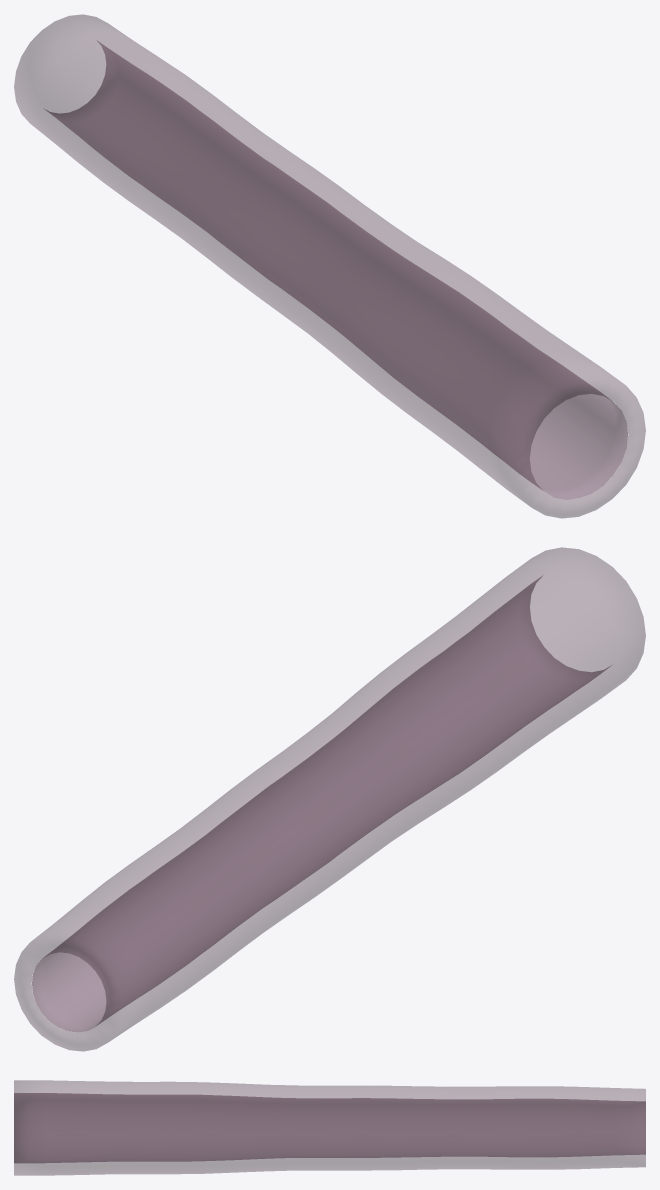
File: s3_nephron_tubule.glb
3 renders of one model, top to bottom at view 1: azimuth 30°, elevation 25°; view 2: azimuth 150°, elevation 25°; view 3: azimuth 270°, elevation 25°, orthographic. The views are drawn at different scales.
Visible parts, largest first — view 1: tubule; view 2: tubule; view 3: tubule.
Boxes of the visible parts, x1,y1,x2,y2 form: tubule: [14, 14, 645, 518]; tubule: [14, 547, 645, 1051]; tubule: [14, 1080, 645, 1175].
Size of the model in its own units: 0.6066 by 0.6066 by 4.
